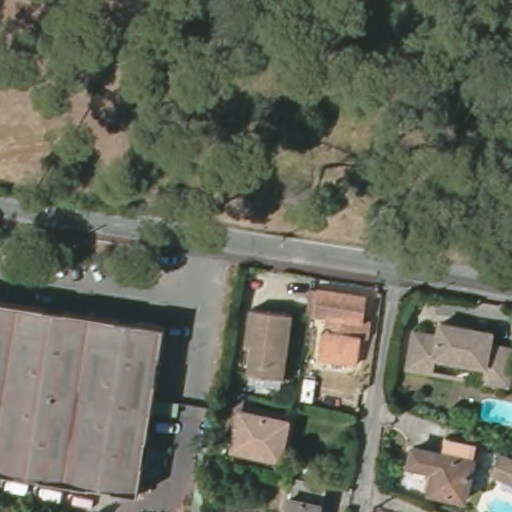pool: (479, 391, 512, 429), (473, 484, 512, 512)
